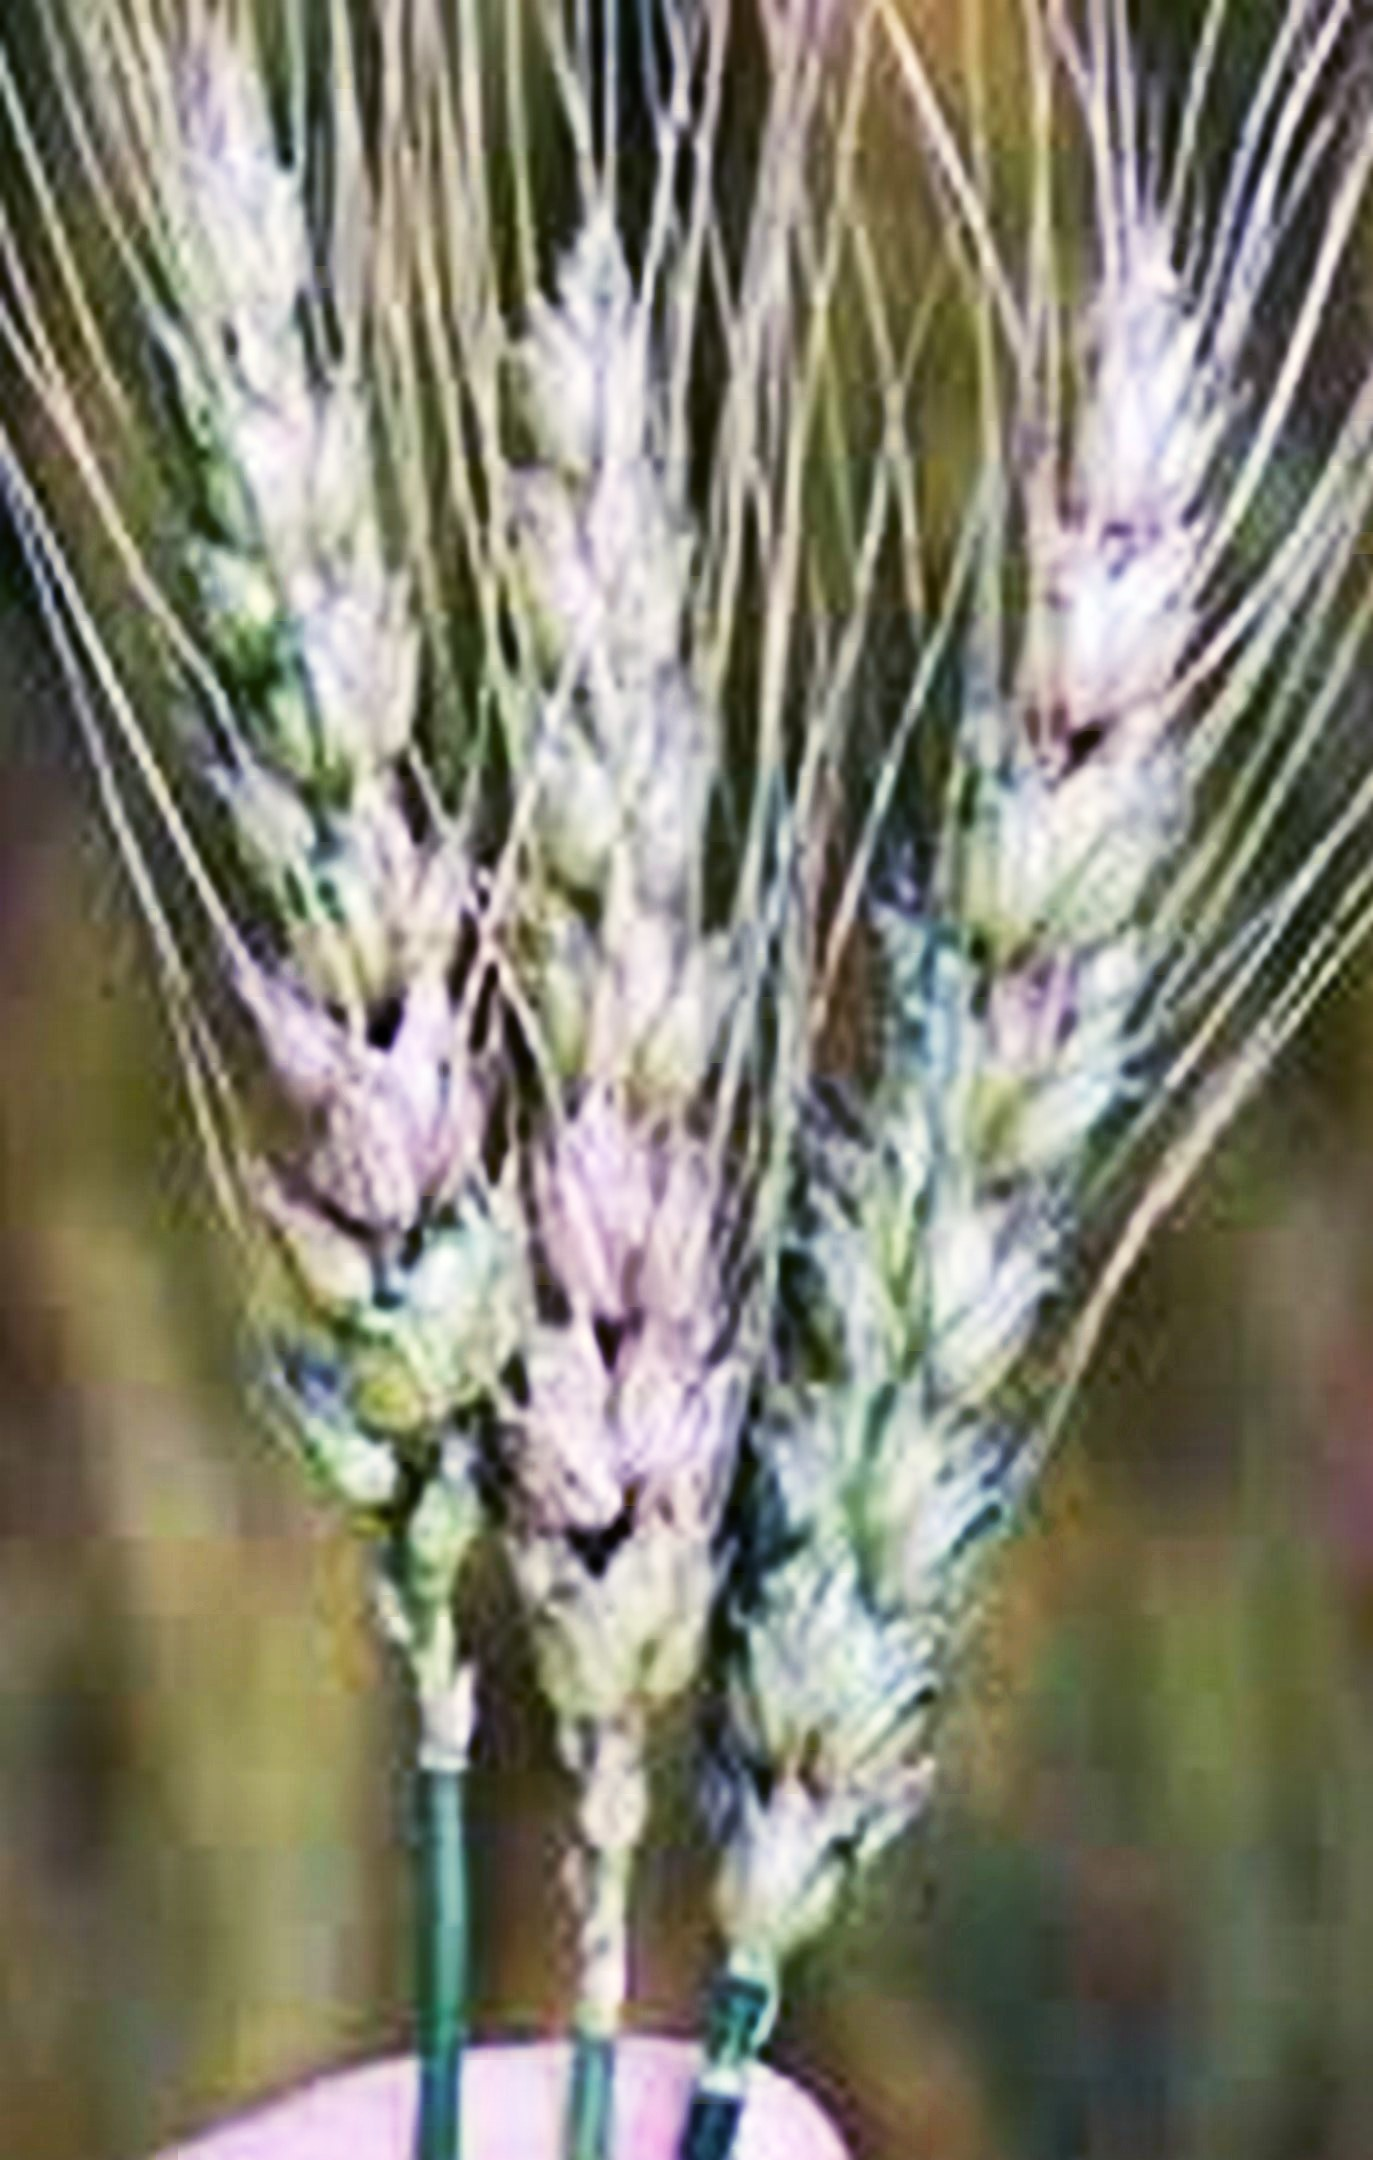Wheat scab: (512, 156, 1242, 1829), (124, 132, 524, 1631)
